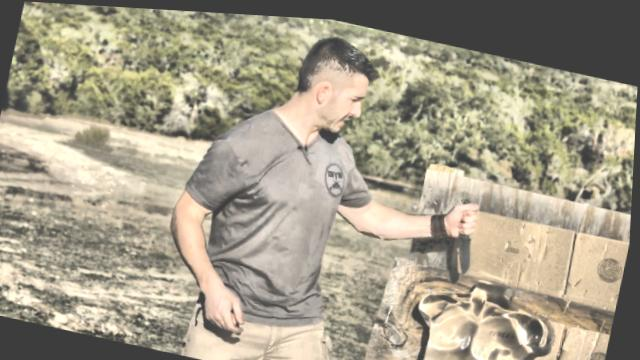knife: (443, 190, 491, 274)
